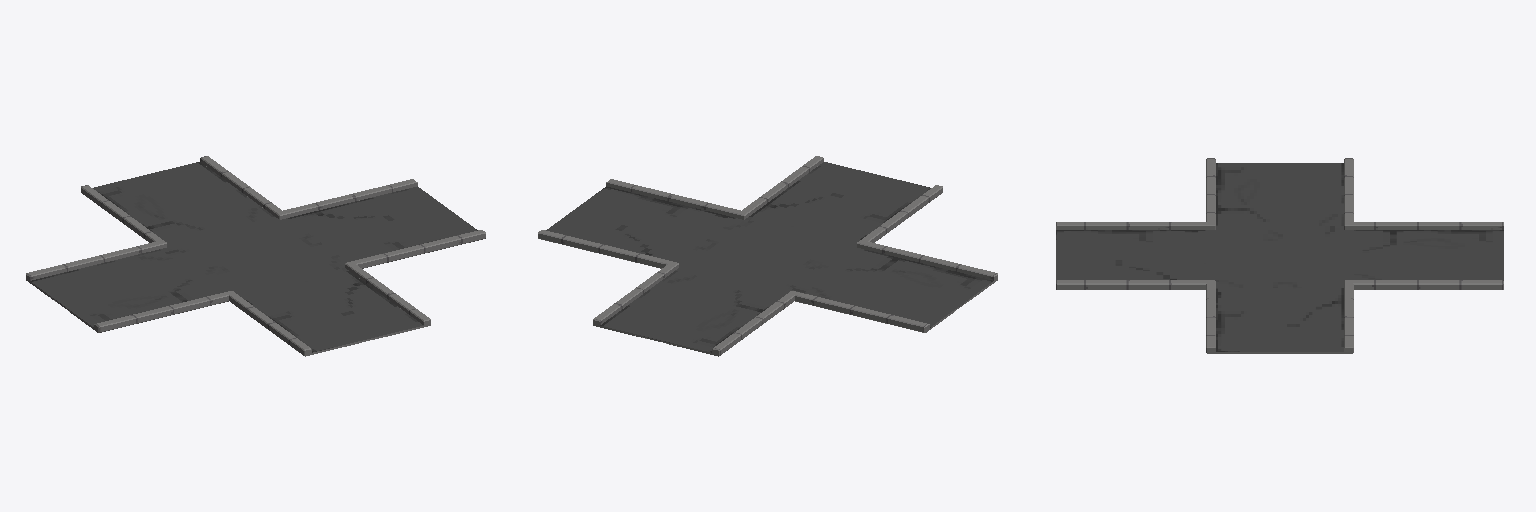
3 views of the same model, side by side, from view 1: azimuth 30°, elevation 25°; view 2: azimuth 150°, elevation 25°; view 3: azimuth 270°, elevation 25° (orthographic).
Parts seen in each view (by area): view 1: Cube.001; view 2: Cube.001; view 3: Cube.001.
Boxes of the visible parts, x1,y1,x2,y2 form: Cube.001: [26, 156, 485, 356]; Cube.001: [538, 156, 997, 356]; Cube.001: [1056, 158, 1503, 353].
Size of the model in its own units: 31.45 by 0.5119 by 31.45.
Materials: 1 (1 with a texture image).